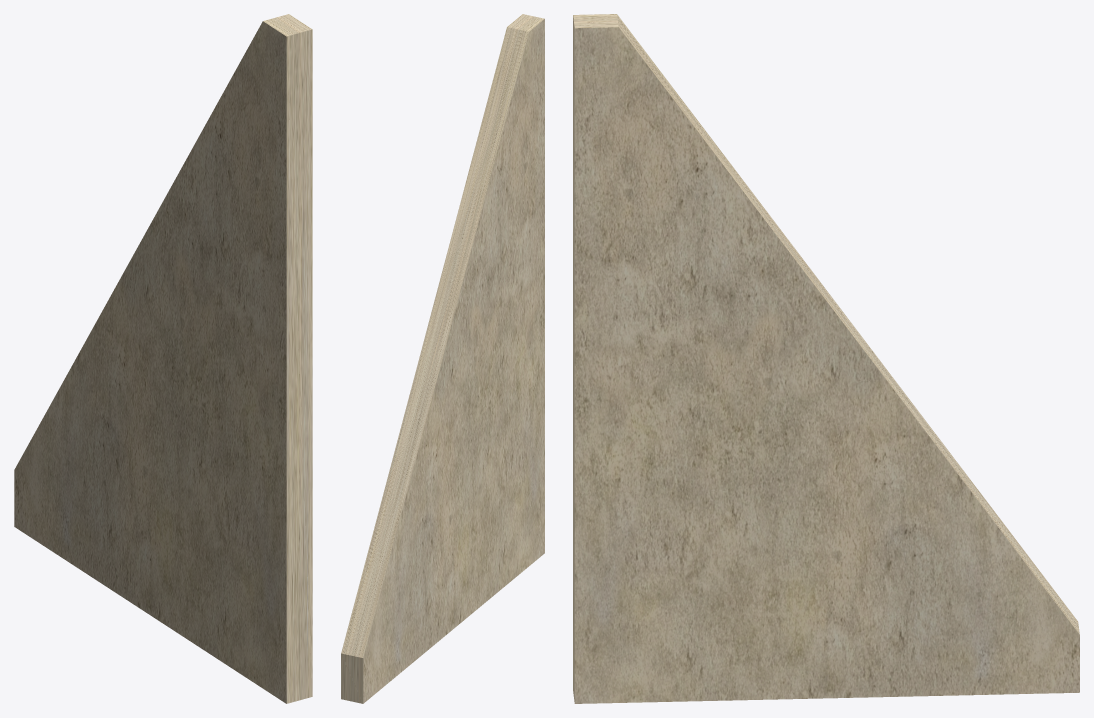
Rendered from concrete_45.fbx.
The picture shows the model from 3 angles, left to right: view 1: azimuth 30°, elevation 25°; view 2: azimuth 150°, elevation 25°; view 3: azimuth 270°, elevation 25°; orthographic projection. The views are drawn at different scales.
Parts seen in each view (by area): view 1: concrete_45; view 2: concrete_45; view 3: concrete_45.
Boxes of the visible parts, x1,y1,x2,y2 form: concrete_45: (14,14,312,703); concrete_45: (341,14,544,703); concrete_45: (573,14,1079,703).
Size of the model in its own units: 18.41 by 237 by 161.
